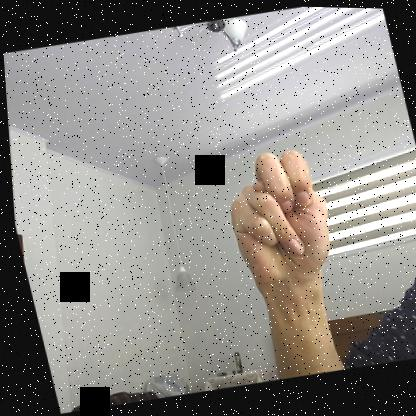N: (211, 138, 347, 299)
